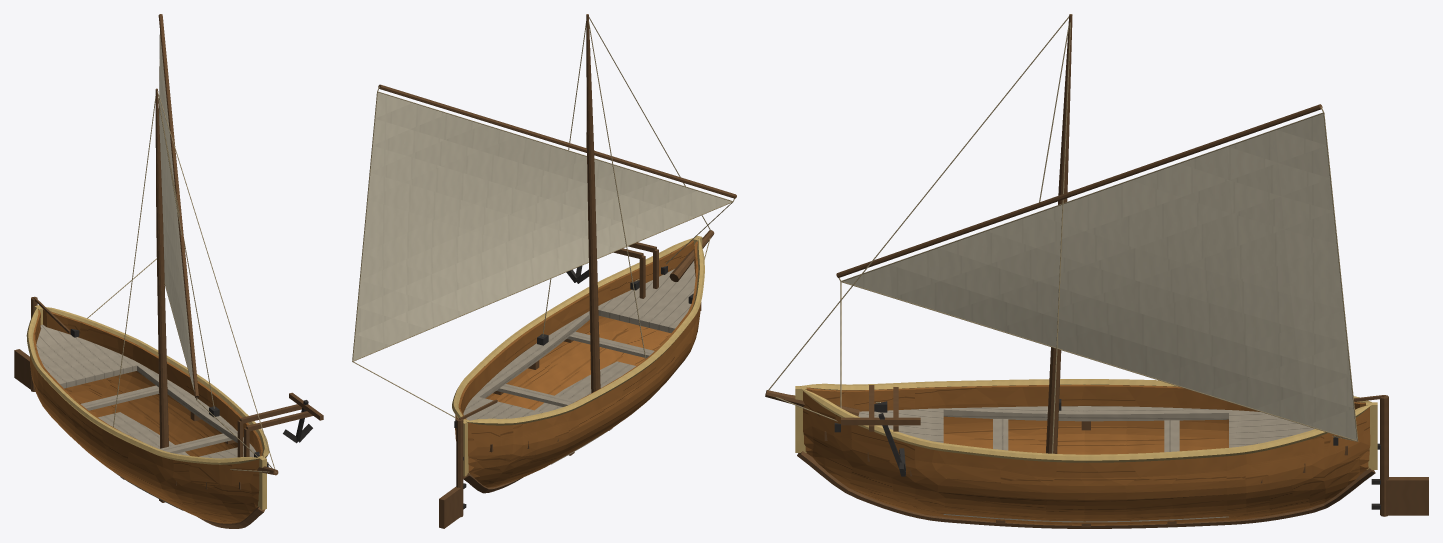
The picture shows the model from 3 angles, left to right: view 1: azimuth 30°, elevation 25°; view 2: azimuth 150°, elevation 25°; view 3: azimuth 270°, elevation 25°; orthographic projection. The views are drawn at different scales.
Parts seen in each view (by area): view 1: lod2_hull_shell_starboard, lod2_hull_shell_port, lod2_main_lateen_00, lod2_deck_stern, lod2_main, lod2_gunwale_starboard, lod2_main_lateen_00_lateen_yard, lod2_gunwale_port, lod2_deck_starboard_walkway, lod2_cockpit_sole, lod2_thwart_0, lod2_thwart_1 (+8 smaller); view 2: lod2_main_lateen_00, lod2_hull_shell_starboard, lod2_hull_shell_port, lod2_deck_bow, lod2_main, lod2_gunwale_starboard, lod2_main_lateen_00_lateen_yard, lod2_deck_starboard_walkway, lod2_gunwale_port, lod2_cockpit_sole, lod2_deck_stern, lod2_rudder_blade (+7 smaller); view 3: lod2_main_lateen_00, lod2_hull_shell_port, lod2_hull_shell_starboard, lod2_gunwale_port, lod2_deck_port_walkway, lod2_keel, lod2_main_lateen_00_lateen_yard, lod2_main, lod2_gunwale_starboard, lod2_deck_stern, lod2_rudder_blade, lod2_deck_bow (+5 smaller).
Part boxes in pixels (<box>): lod2_hull_shell_starboard: <box>30,310,259,523</box>; lod2_hull_shell_port: <box>43,309,265,457</box>; lod2_main_lateen_00: <box>159,35,194,389</box>; lod2_deck_stern: <box>36,324,140,388</box>; lod2_main: <box>155,88,168,448</box>; lod2_gunwale_starboard: <box>26,307,260,464</box>; lod2_main_lateen_00_lateen_yard: <box>158,14,198,397</box>; lod2_gunwale_port: <box>46,307,269,457</box>; lod2_deck_starboard_walkway: <box>137,364,250,445</box>; lod2_cockpit_sole: <box>98,412,189,510</box>; lod2_thwart_0: <box>81,385,159,410</box>; lod2_thwart_1: <box>159,433,231,453</box>; lod2_main_lateen_00: <box>353,92,731,360</box>; lod2_hull_shell_starboard: <box>468,241,701,487</box>; lod2_hull_shell_port: <box>455,240,693,440</box>; lod2_deck_bow: <box>598,261,695,332</box>; lod2_main: <box>586,14,600,393</box>; lod2_gunwale_starboard: <box>466,238,704,425</box>; lod2_main_lateen_00_lateen_yard: <box>378,84,736,198</box>; lod2_deck_starboard_walkway: <box>475,311,589,398</box>; lod2_gunwale_port: <box>452,237,695,420</box>; lod2_cockpit_sole: <box>535,361,635,464</box>; lod2_deck_stern: <box>463,396,542,420</box>; lod2_rudder_blade: <box>439,486,461,528</box>; lod2_main_lateen_00: <box>843,113,1356,440</box>; lod2_hull_shell_port: <box>803,391,1370,525</box>; lod2_hull_shell_starboard: <box>806,384,1365,454</box>; lod2_gunwale_port: <box>801,388,1371,462</box>; lod2_deck_port_walkway: <box>943,406,1228,421</box>; lod2_keel: <box>797,451,1375,528</box>; lod2_main_lateen_00_lateen_yard: <box>836,104,1322,277</box>; lod2_main: <box>1046,14,1072,453</box>; lod2_gunwale_starboard: <box>800,379,1371,402</box>; lod2_deck_stern: <box>1229,410,1314,447</box>; lod2_rudder_blade: <box>1386,477,1428,515</box>; lod2_deck_bow: <box>858,408,943,442</box>.
Size of the model in its own units: 4.12 by 8.95 by 10.46.
Materials: 7 (7 with a texture image).
